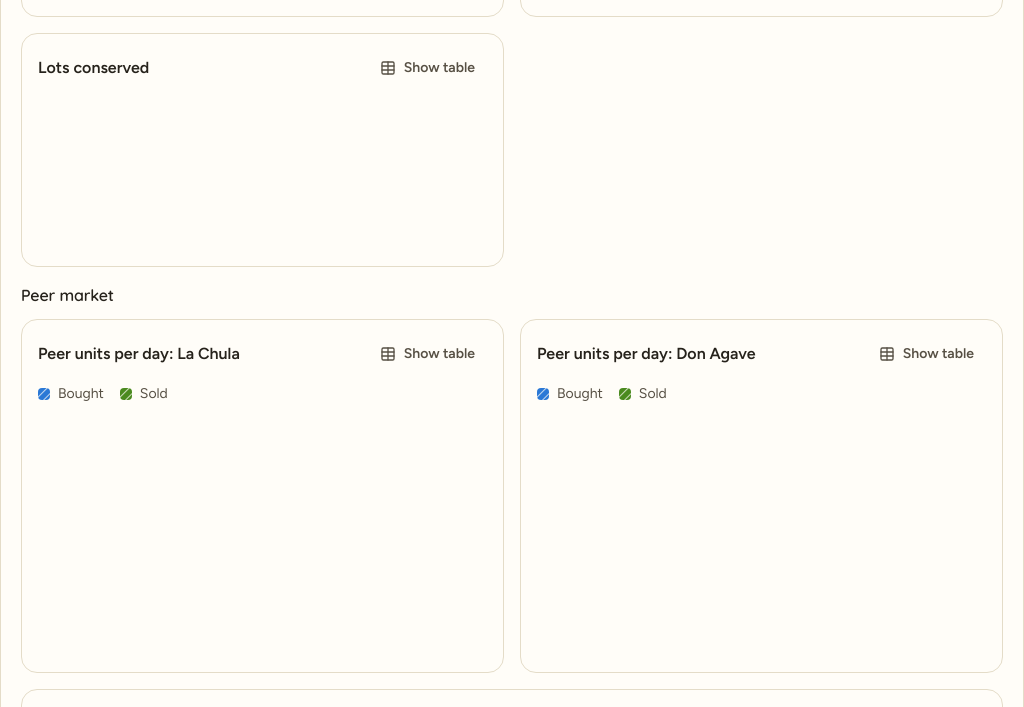
Peer market (criterion 12, failure mode 12) › has a table view with Day, Bought and Sold, sold as a positive count
(page scrolled)
Click the button "Show table" next to "Peer units per day: Don Agave" at {"x": 926, "y": 354}, box [867,336,986,372]
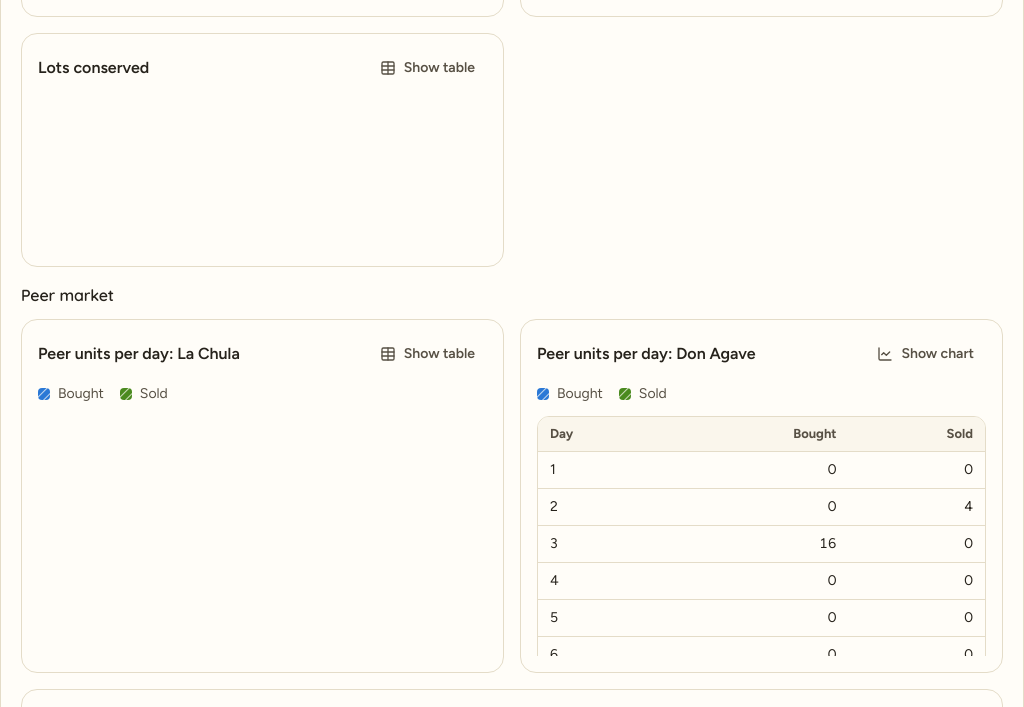
Expected: the column headings read "Day", "Bought", "Sold", in this order, [538,417,666,451]; [666,417,848,451]; [848,417,985,451]
